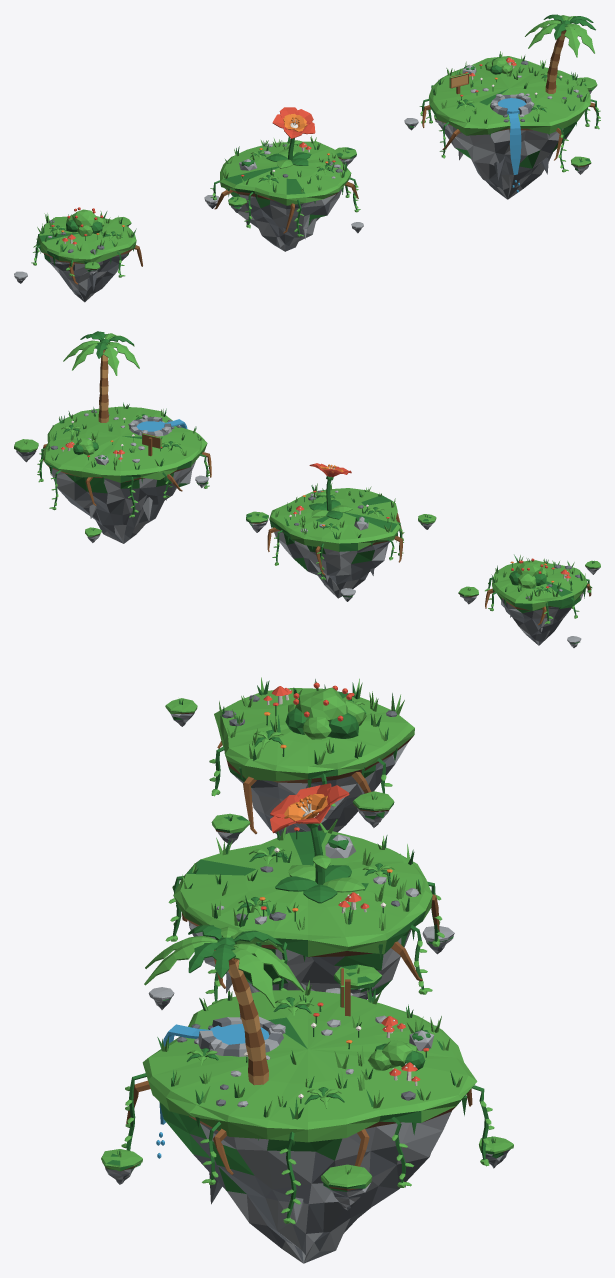
Rendered from jungle-sky-islets.glb.
The picture shows the model from 3 angles, top to bottom: view 1: azimuth 30°, elevation 25°; view 2: azimuth 150°, elevation 25°; view 3: azimuth 270°, elevation 25°; orthographic projection. The views are drawn at different scales.
Parts seen in each view (by area): view 1: JungleIslet_Large_Ground, JungleIslet_Medium_Ground, JungleIslet_Small_Ground, JungleIslet_Large_Plants, JungleIslet_Large_PalmFronds, JungleIslet_Medium_Plants, JungleIslet_Large_Hanging, JungleIslet_Large_Water, JungleIslet_Medium_FlowerHead, JungleIslet_Medium_Hanging, JungleIslet_Small_Plants, JungleIslet_Small_Bush (+6 smaller); view 2: JungleIslet_Large_Ground, JungleIslet_Medium_Ground, JungleIslet_Small_Ground, JungleIslet_Large_Plants, JungleIslet_Large_PalmFronds, JungleIslet_Medium_Plants, JungleIslet_Large_Hanging, JungleIslet_Small_Bush, JungleIslet_Medium_Hanging, JungleIslet_Small_Plants, JungleIslet_Medium_FlowerStem, JungleIslet_Large (+5 smaller); view 3: JungleIslet_Large_Ground, JungleIslet_Medium_Ground, JungleIslet_Small_Ground, JungleIslet_Large_Plants, JungleIslet_Large_PalmFronds, JungleIslet_Medium_Plants, JungleIslet_Large_Hanging, JungleIslet_Small_Bush, JungleIslet_Large, JungleIslet_Medium_FlowerStem, JungleIslet_Medium, JungleIslet_Small_Plants (+8 smaller).
Boxes of the visible parts, box(x1,y1,x2,y2) form: JungleIslet_Large_Ground: box(429, 56, 590, 199); JungleIslet_Medium_Ground: box(220, 141, 351, 251); JungleIslet_Small_Ground: box(37, 216, 136, 302); JungleIslet_Large_Plants: box(432, 51, 587, 123); JungleIslet_Large_PalmFronds: box(525, 14, 595, 57); JungleIslet_Medium_Plants: box(222, 136, 347, 192); JungleIslet_Large_Hanging: box(419, 83, 600, 180); JungleIslet_Large_Water: box(498, 98, 526, 192); JungleIslet_Medium_FlowerHead: box(272, 107, 315, 138); JungleIslet_Medium_Hanging: box(210, 177, 360, 239); JungleIslet_Small_Plants: box(37, 211, 136, 254); JungleIslet_Small_Bush: box(66, 207, 104, 236); JungleIslet_Large_Ground: box(43, 406, 207, 543); JungleIslet_Medium_Ground: box(269, 488, 400, 598); JungleIslet_Small_Ground: box(492, 560, 587, 645); JungleIslet_Large_Plants: box(46, 402, 201, 470); JungleIslet_Large_PalmFronds: box(63, 331, 139, 375); JungleIslet_Medium_Plants: box(272, 483, 395, 539); JungleIslet_Large_Hanging: box(37, 425, 211, 521); JungleIslet_Small_Bush: box(509, 558, 547, 588); JungleIslet_Medium_Hanging: box(267, 513, 404, 581); JungleIslet_Small_Plants: box(491, 554, 585, 600); JungleIslet_Medium_FlowerStem: box(309, 480, 352, 519); JungleIslet_Large: box(14, 439, 209, 542); JungleIslet_Large_Ground: box(142, 990, 477, 1263); JungleIslet_Medium_Ground: box(173, 830, 432, 999); JungleIslet_Small_Ground: box(214, 688, 414, 835); JungleIslet_Large_Plants: box(157, 980, 462, 1119); JungleIslet_Large_PalmFronds: box(144, 925, 304, 1007); JungleIslet_Medium_Plants: box(182, 818, 424, 930); JungleIslet_Large_Hanging: box(121, 1025, 494, 1224); JungleIslet_Small_Bush: box(285, 682, 366, 739); JungleIslet_Large: box(101, 988, 513, 1210); JungleIslet_Medium_FlowerStem: box(275, 826, 365, 903); JungleIslet_Medium: box(148, 813, 454, 1009); JungleIslet_Small_Plants: box(219, 677, 404, 764).
Bounding box in the file's own units: 85.82 × 26.37 × 27.01.
